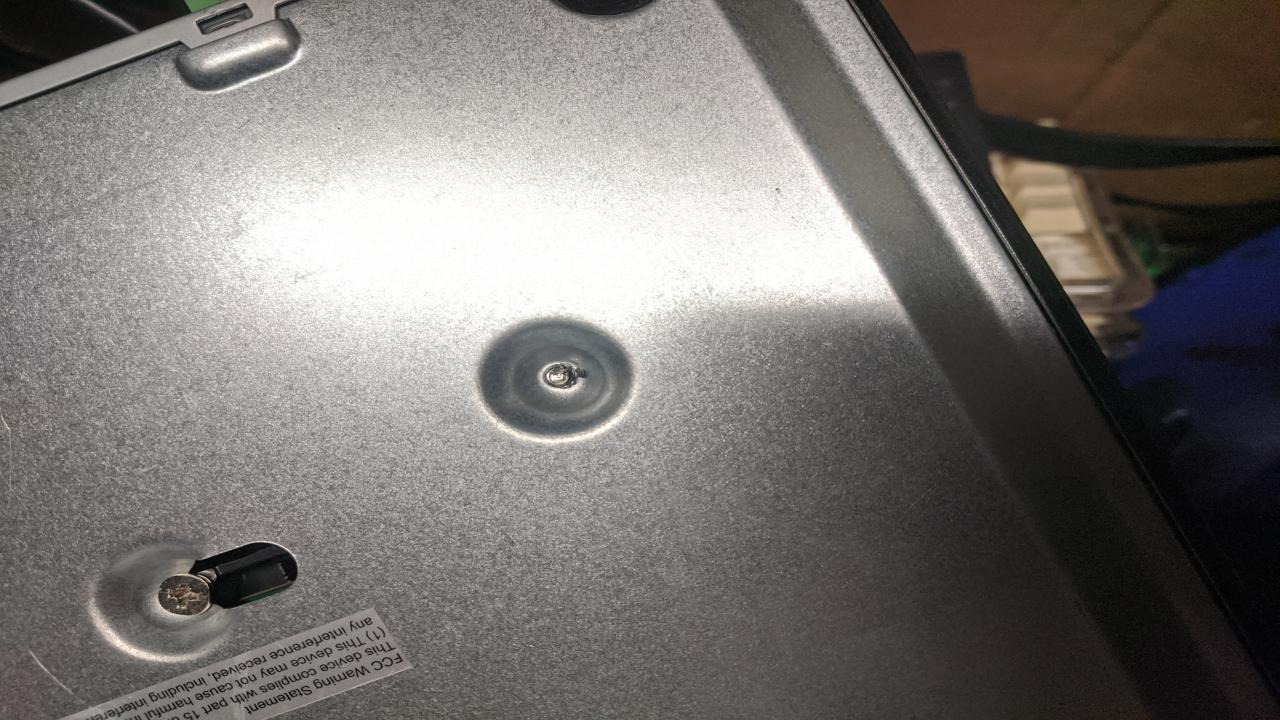CRS: (156, 570, 216, 619)
